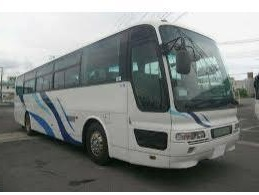bus: (15, 25, 234, 167)
